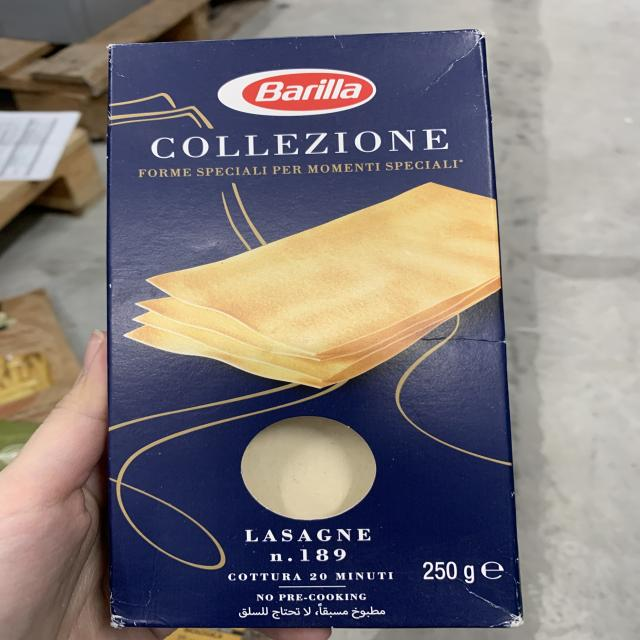object_name: (103, 44, 517, 623)
